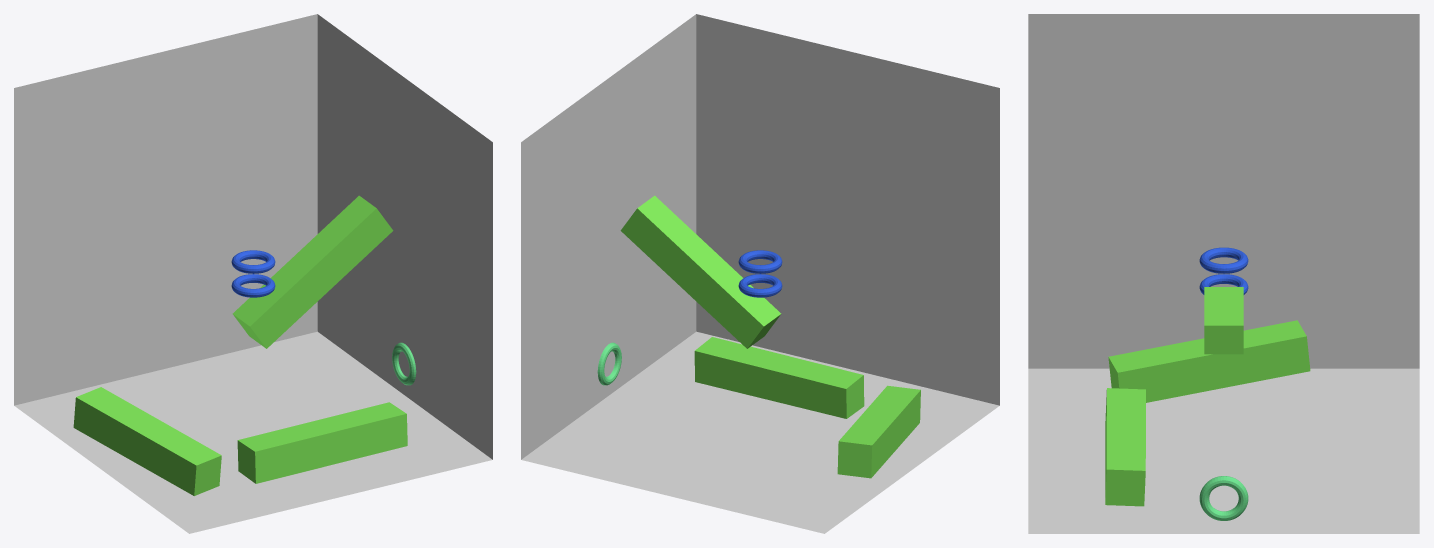
File: Level4.glb
The picture shows the model from 3 angles, left to right: view 1: azimuth 30°, elevation 25°; view 2: azimuth 150°, elevation 25°; view 3: azimuth 270°, elevation 25°; orthographic projection. The views are drawn at different scales.
Visible parts, largest first — view 1: Plane.033, Plane.031, Plane.028, Cube.006, Cube.004, Cube.005, spawn.007, spawn.006, destination.005; view 2: Plane.032, Plane.031, Plane.028, Cube.006, Cube.004, Cube.005, spawn.007, spawn.006, destination.005; view 3: Plane.030, Plane.028, Cube.005, Cube.004, Cube.006, destination.005, spawn.006, spawn.007.
Part boxes in pixels (x1,y1,x2,y2): Plane.033: (14, 14, 317, 405); Plane.031: (317, 14, 492, 459); Plane.028: (14, 331, 492, 533); Cube.006: (232, 195, 393, 348); Cube.004: (237, 402, 407, 483); Cube.005: (73, 387, 221, 495); spawn.007: (231, 274, 275, 297); spawn.006: (231, 250, 275, 273); destination.005: (392, 342, 416, 385); Plane.032: (696, 14, 999, 405); Plane.031: (521, 14, 696, 459); Plane.028: (521, 331, 999, 533); Cube.006: (620, 195, 781, 348); Cube.004: (694, 337, 864, 418); Cube.005: (837, 385, 920, 478); spawn.007: (738, 274, 782, 297); spawn.006: (738, 250, 782, 273); destination.005: (597, 342, 621, 385); Plane.030: (1028, 14, 1419, 368); Plane.028: (1028, 368, 1419, 533); Cube.005: (1108, 320, 1310, 402); Cube.004: (1105, 388, 1145, 506); Cube.006: (1204, 287, 1243, 354); destination.005: (1199, 476, 1248, 520); spawn.006: (1199, 247, 1248, 273); spawn.007: (1199, 274, 1248, 294).
Bounding box in the file's own units: 20.25 × 20.07 × 20.
